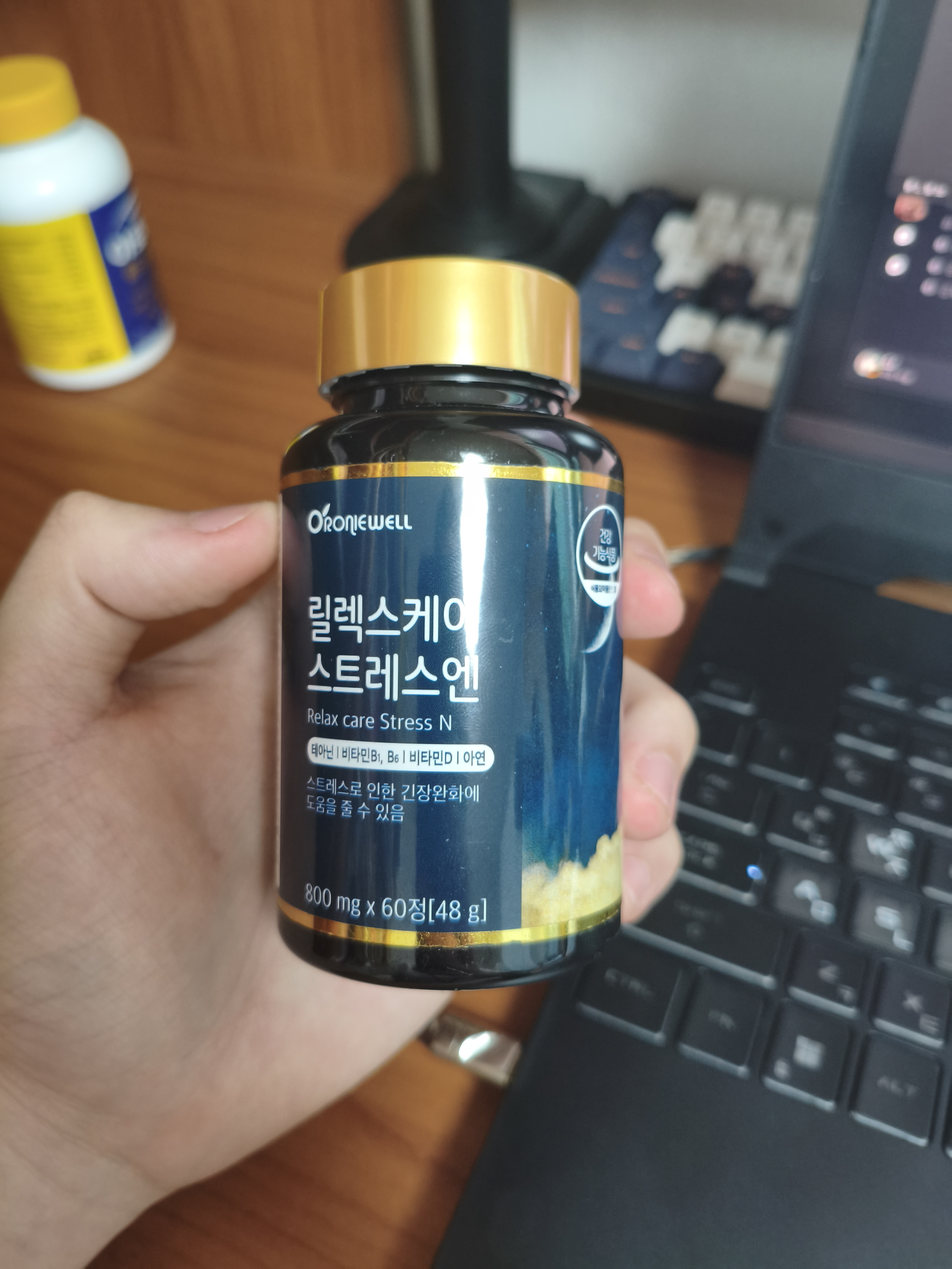supplement_label: (255, 451, 643, 955)
